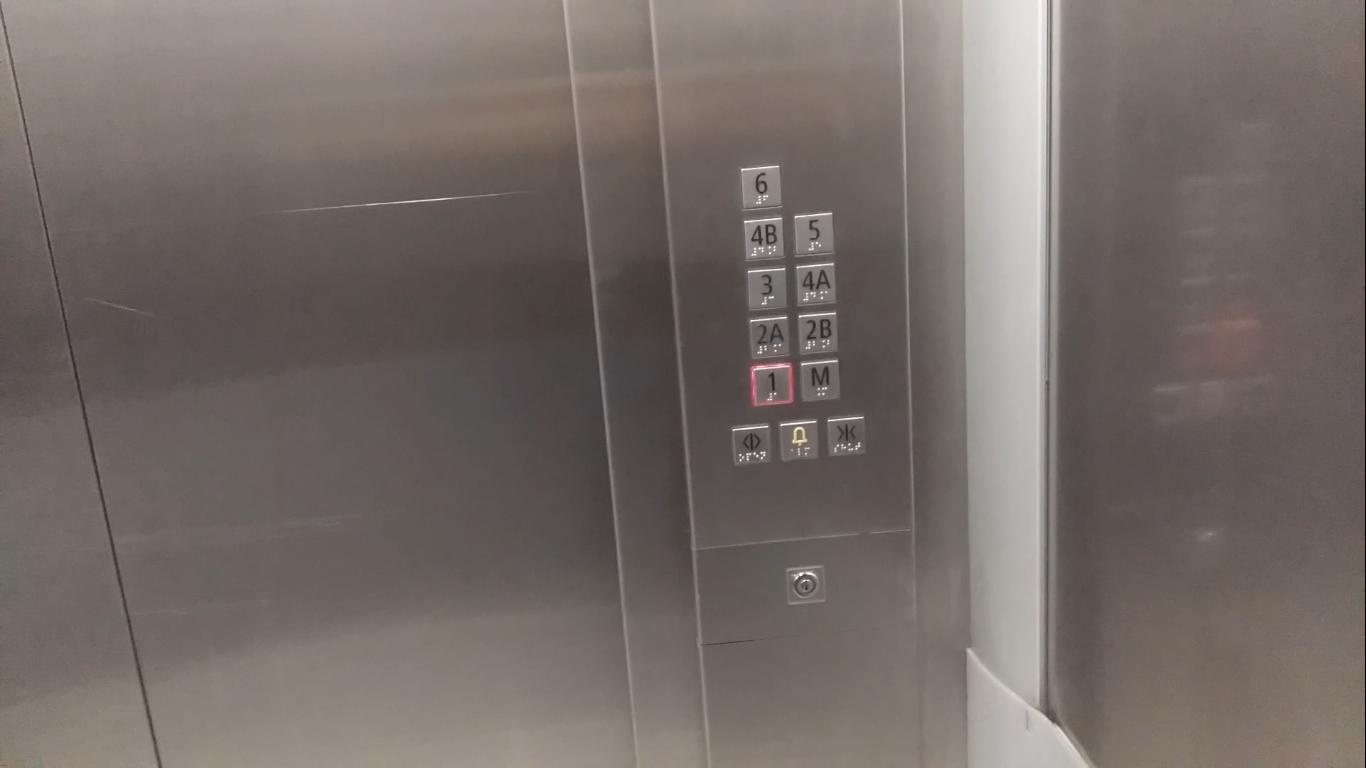1: (748, 362, 797, 408)
2A: (745, 313, 792, 361)
2B: (794, 310, 841, 357)
3: (744, 265, 790, 313)
4A: (792, 261, 839, 308)
4B: (741, 215, 788, 263)
5: (792, 209, 837, 259)
6: (736, 159, 787, 212)
M: (797, 359, 843, 403)
alarm: (776, 416, 821, 464)
close: (825, 413, 869, 459)
keyhole: (783, 563, 830, 608)
open: (728, 421, 773, 468)
